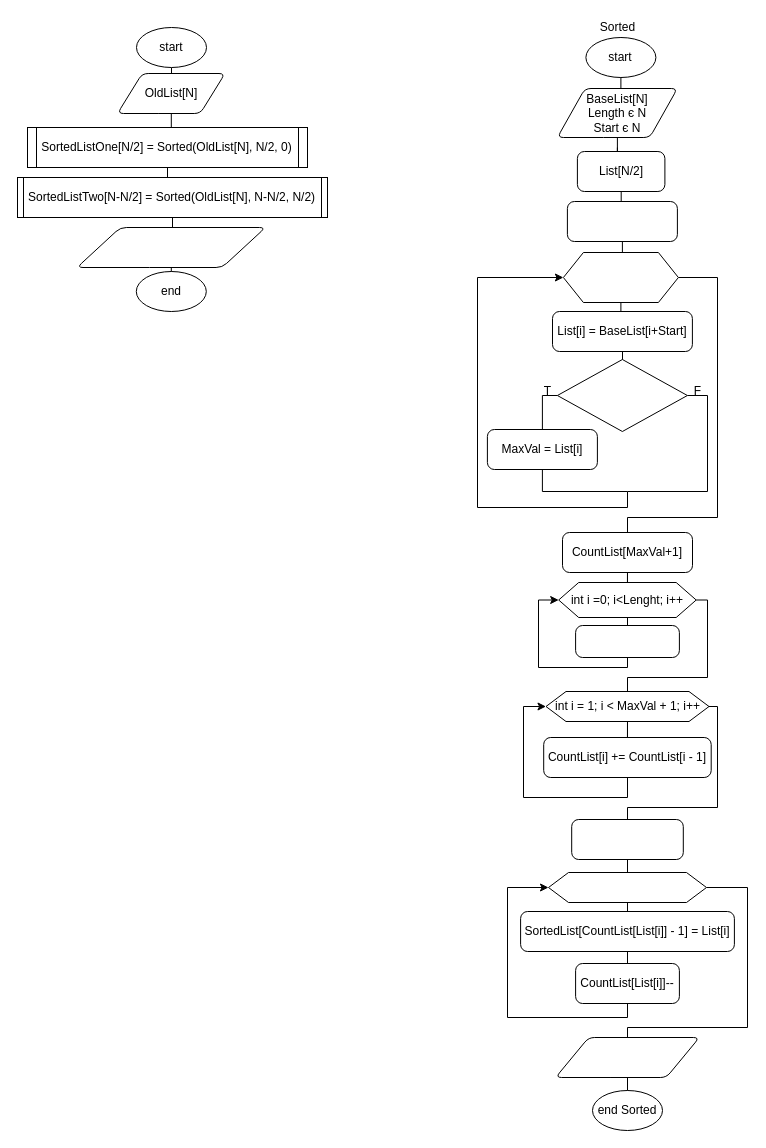
The diagram is 766 pixels wide and 1148 high, and some of its shapes have lost their labels. The centre of each missing label's shape, as x and y in pixels:
CountList[List[i]]++: the point at 627,641
int i = Length - 1; i >= 0; i--: the point at 627,887
int i =0; i<Length;i++: the point at 620,277
MaxVal < List[i]: the point at 621,395
MaxVal = int.Minval: the point at 621,221
SortedList[Lenght]: the point at 627,1057
SortedList[Length]: the point at 627,839
SortedListOne[N/2] SortedListTwo[N-N/2]: the point at 171,247
